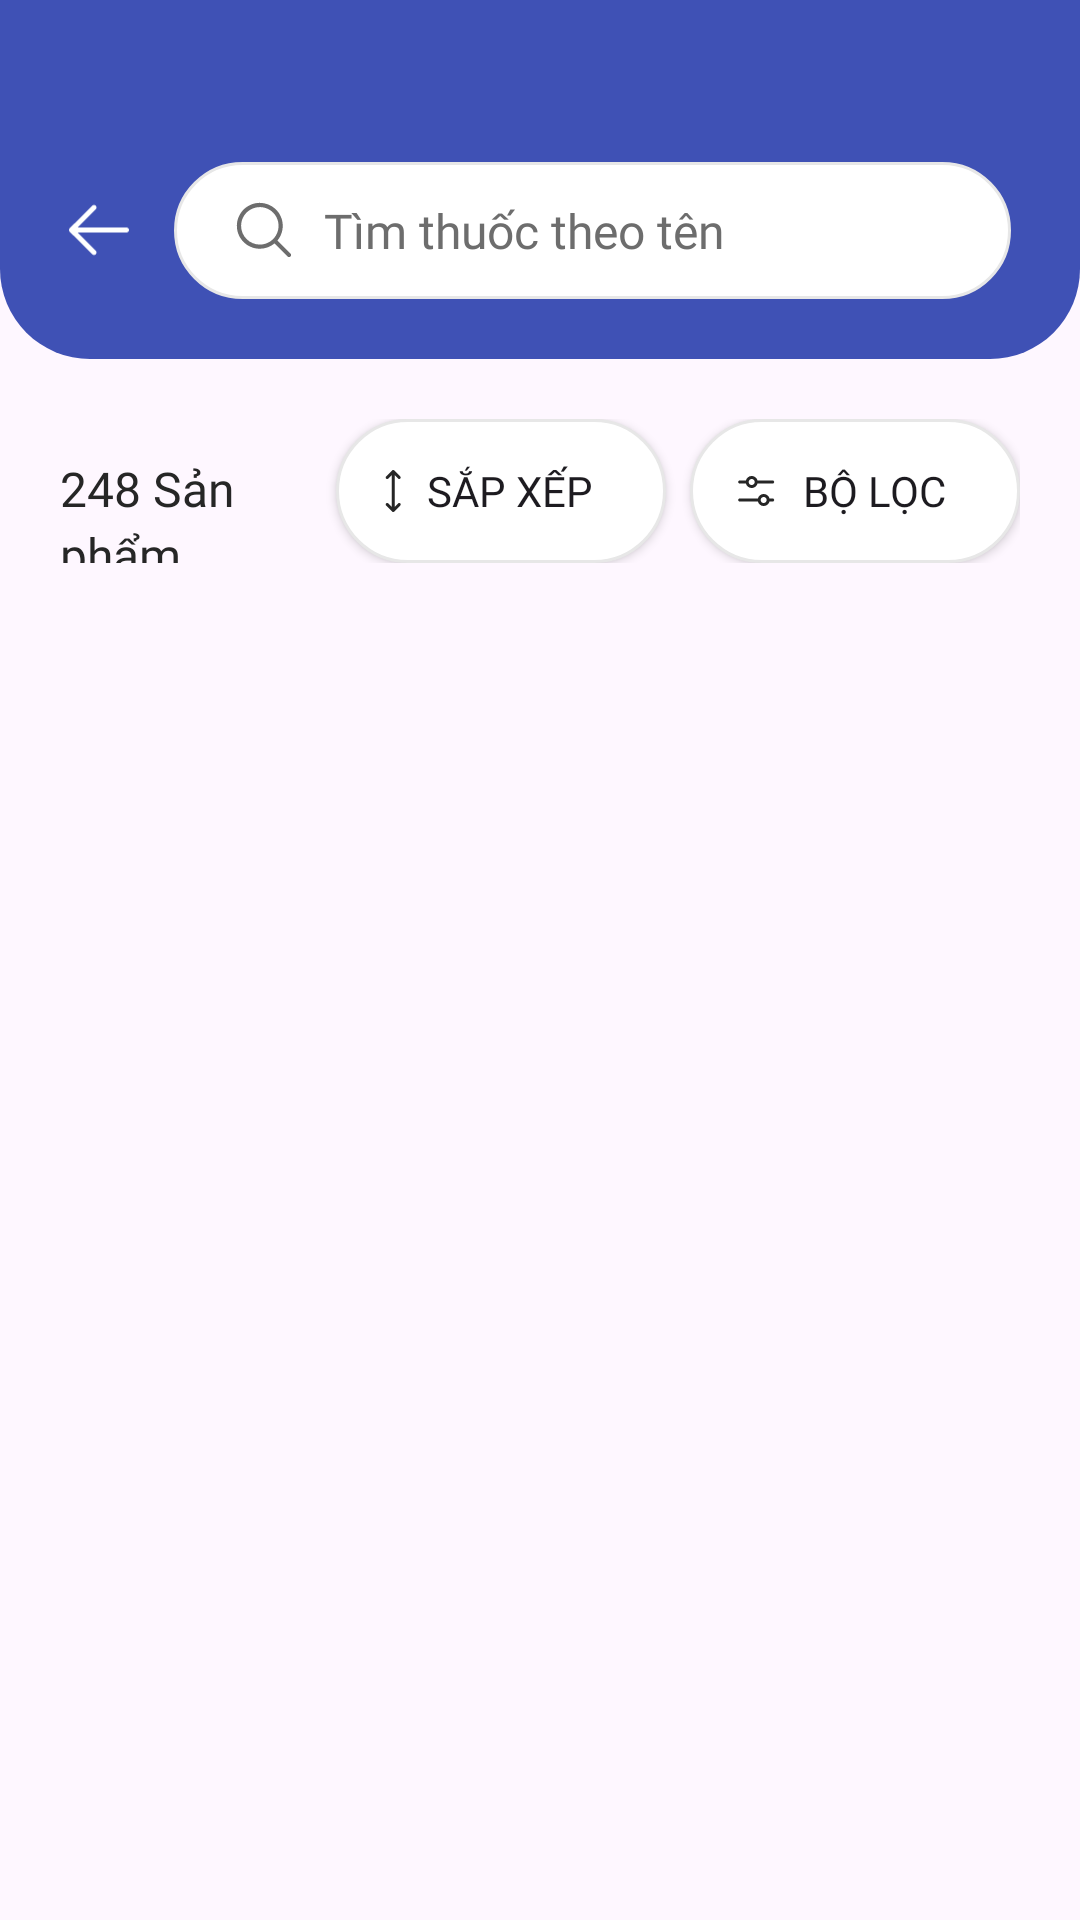

Point at icon controls on the screen. Image size 1080×1920, points as point (x, y).
magnifying: point (263, 229)
